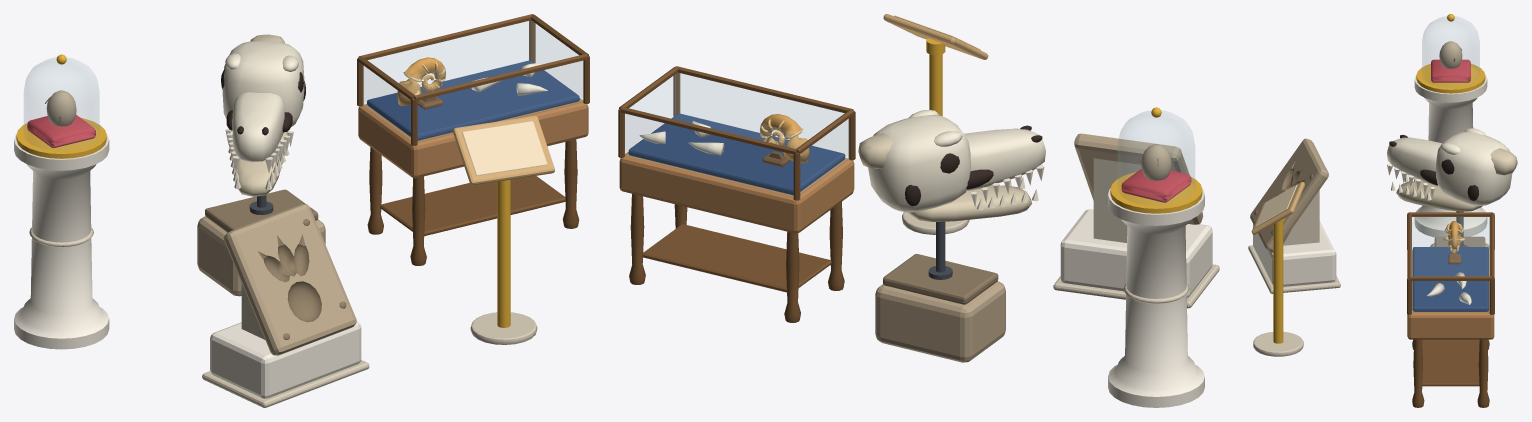
Rendered from museu.glb.
3 renders of one model, left to right at view 1: azimuth 30°, elevation 25°; view 2: azimuth 150°, elevation 25°; view 3: azimuth 270°, elevation 25°, orthographic. The views are drawn at different scales.
Visible parts, largest first — view 1: vitrine, pegada, redoma, cranio, placa, texto; view 2: vitrine, cranio, redoma, pegada, placa; view 3: vitrine, cranio, redoma, pegada, placa, texto.
Boxes of the visible parts, x1=… form: vitrine: x1=357, y1=14, x2=589, y2=265; pegada: x1=202, y1=204, x2=369, y2=407; redoma: x1=14, y1=54, x2=109, y2=349; cranio: x1=197, y1=34, x2=325, y2=296; placa: x1=453, y1=115, x2=554, y2=344; texto: x1=462, y1=121, x2=547, y2=175; vitrine: x1=618, y1=66, x2=855, y2=322; cranio: x1=858, y1=110, x2=1045, y2=362; redoma: x1=1108, y1=107, x2=1204, y2=407; pegada: x1=1053, y1=133, x2=1219, y2=308; placa: x1=883, y1=14, x2=988, y2=234; vitrine: x1=1407, y1=212, x2=1494, y2=407; cranio: x1=1387, y1=128, x2=1517, y2=250; redoma: x1=1414, y1=14, x2=1487, y2=237; pegada: x1=1248, y1=138, x2=1340, y2=293; placa: x1=1251, y1=181, x2=1304, y2=356; texto: x1=1255, y1=184, x2=1297, y2=226.
Bounding box in the file's own units: 2.63 × 1.27 × 1.48.
